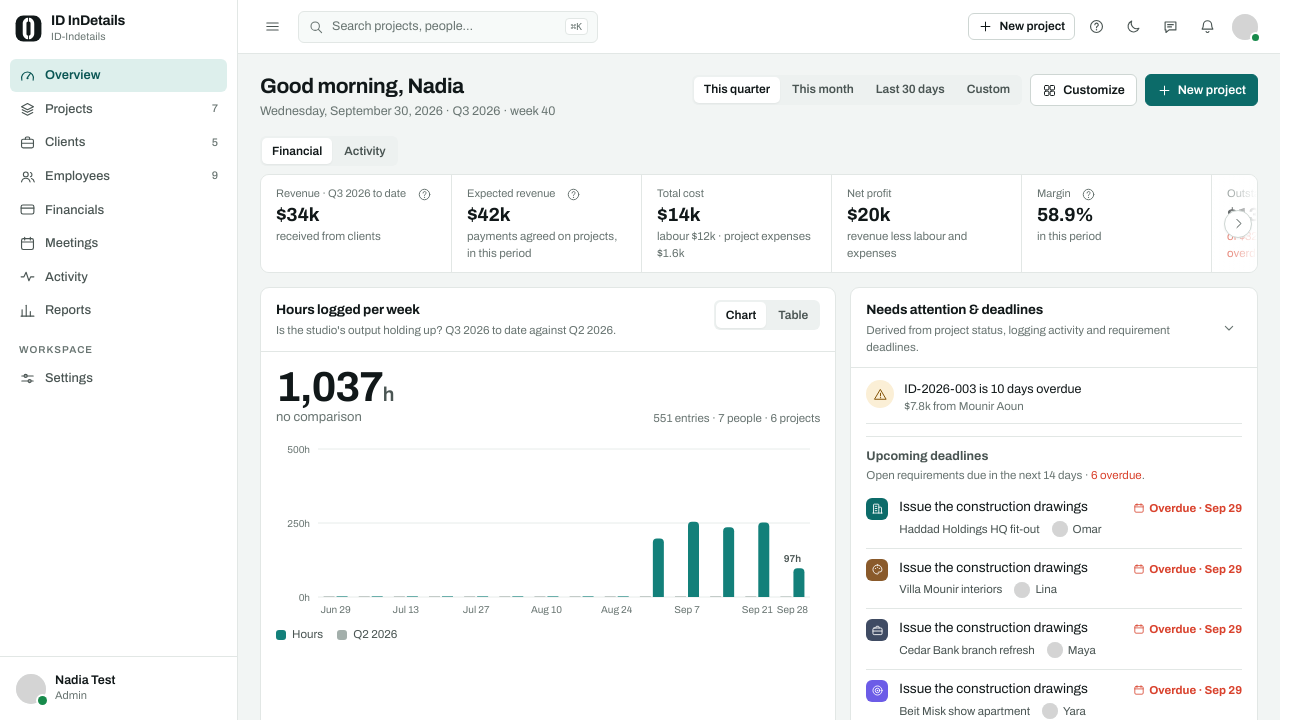
Overview › asks for the period picked
The image size is (1292, 720).
Click the tab "This month": [823, 90] box [782, 77, 864, 103]
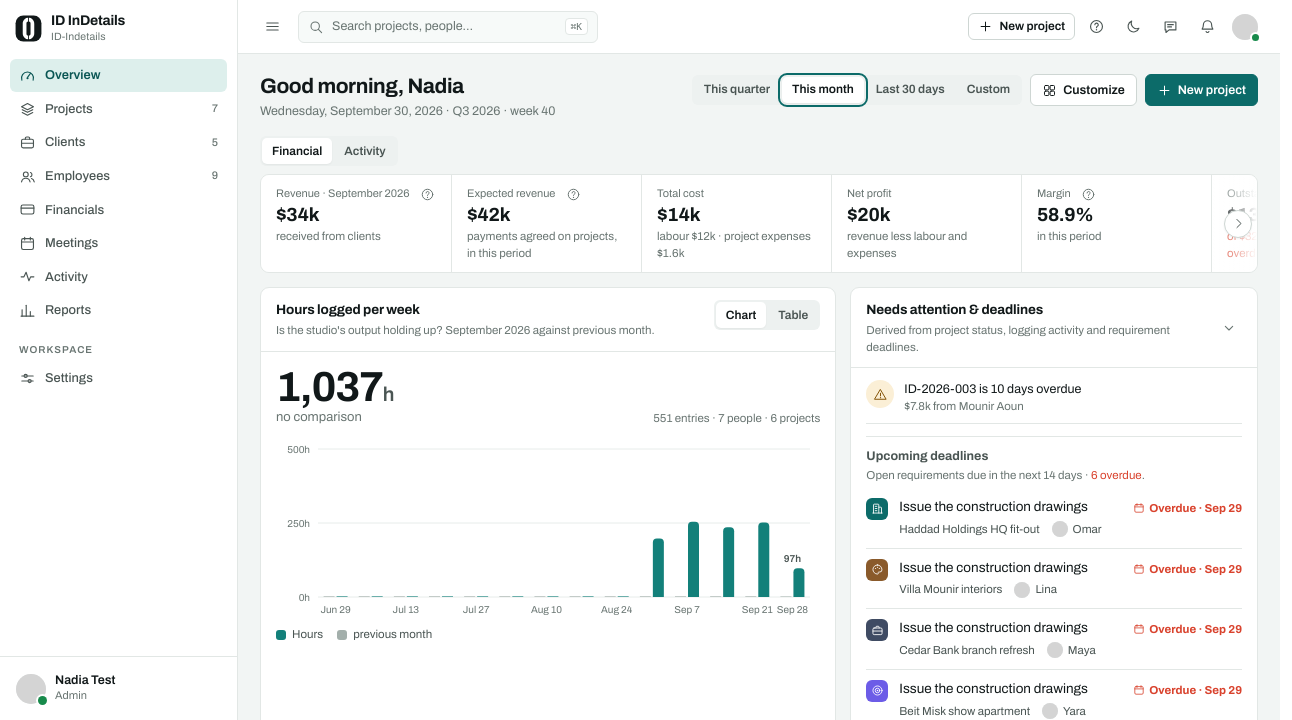
Click the tab "Last 30 days": [910, 90] box [866, 77, 955, 103]
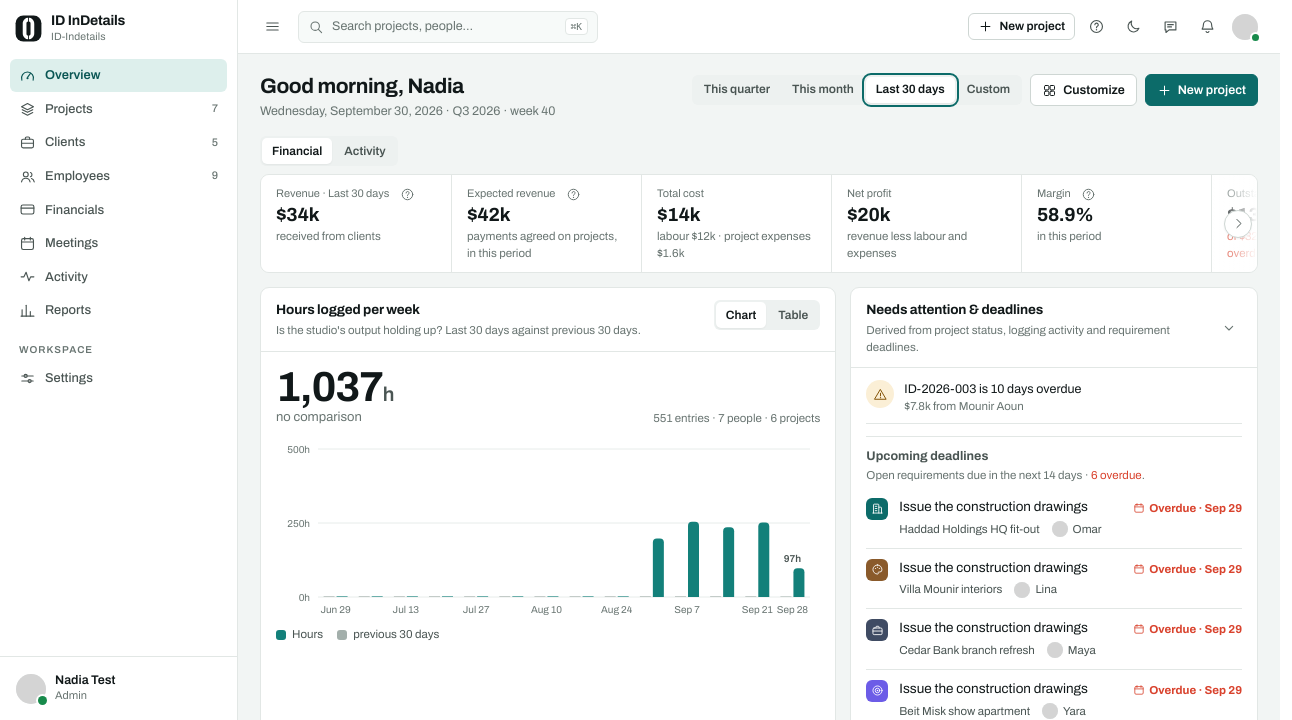
Click the tab "Activity": [365, 151] box [334, 138, 396, 164]
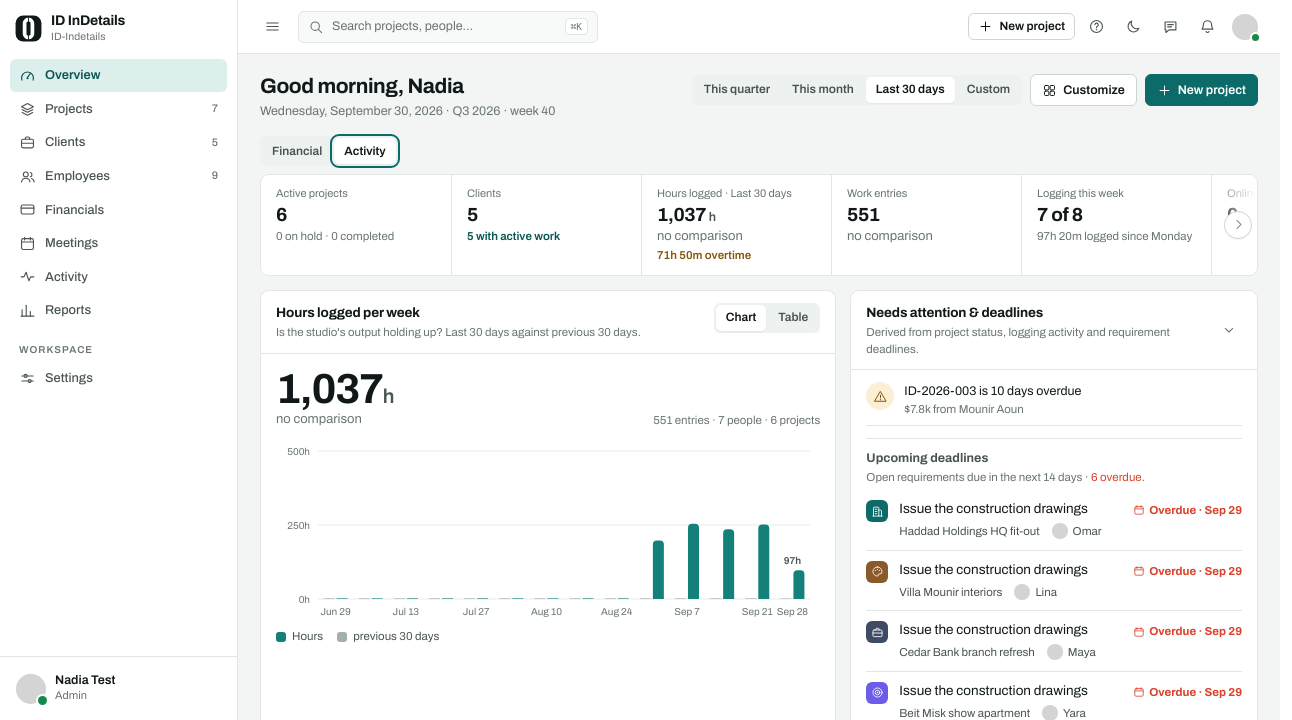
Check: the text "Hours logged · Last 30 days" is shown, box [657, 187, 792, 199]
